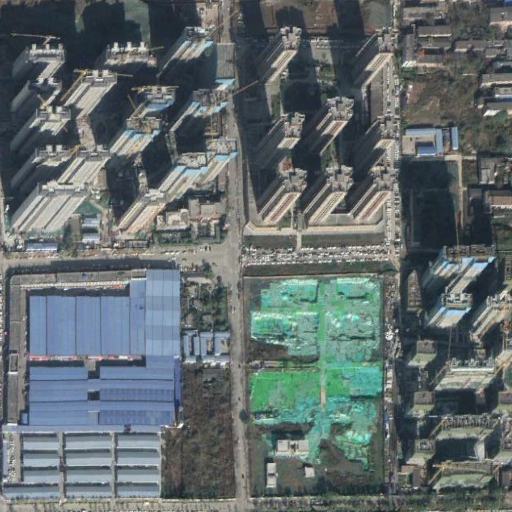cw: (239, 271, 391, 494)
